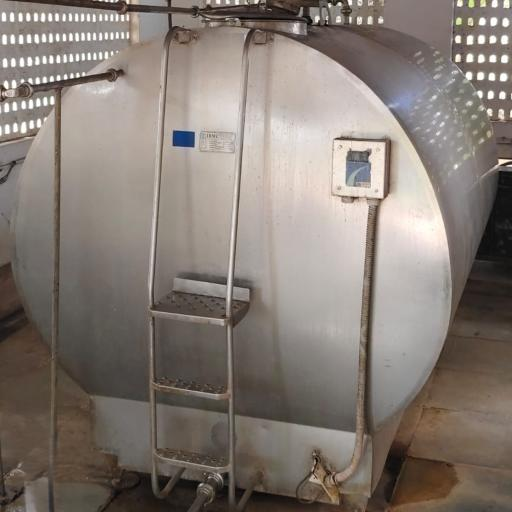silo: (10, 6, 503, 501)
